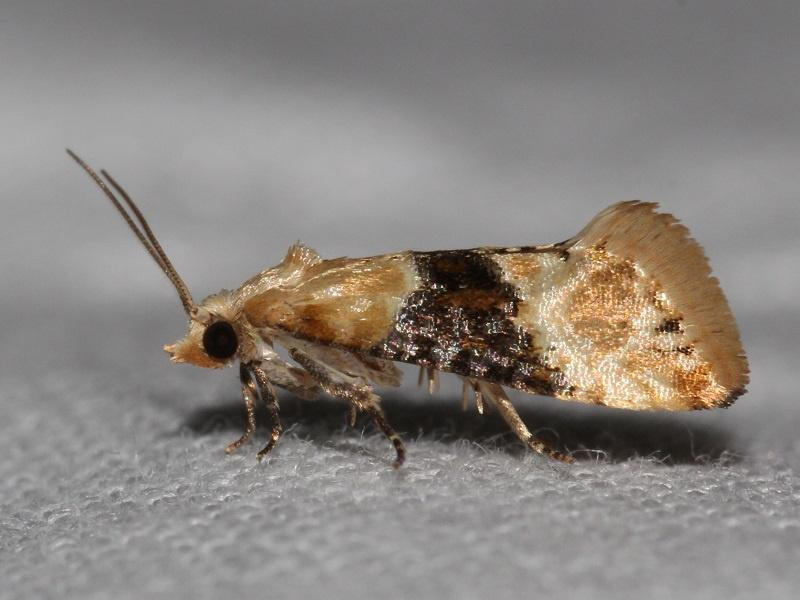Eupoecilia Ambiguella: (62, 145, 753, 470)
